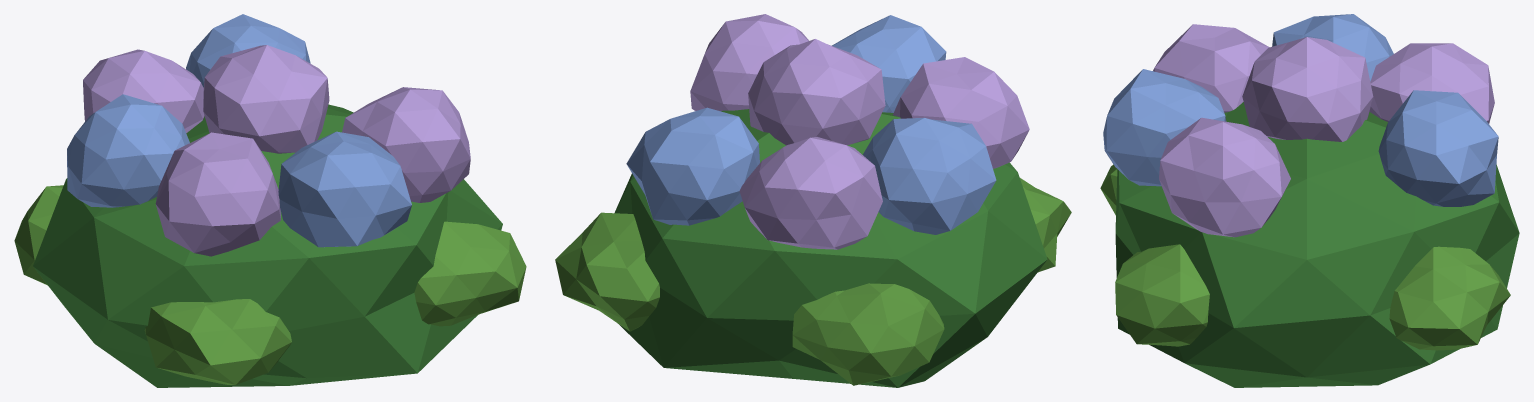
The model's file is hortensia.glb.
3 views of the same model, side by side, from view 1: azimuth 30°, elevation 25°; view 2: azimuth 150°, elevation 25°; view 3: azimuth 270°, elevation 25° (orthographic). The views are drawn at different scales.
Visible parts, largest first — view 1: hortensia; view 2: hortensia; view 3: hortensia.
Part boxes in pixels (x1,y1,x2,y2): hortensia: [14, 14, 526, 387]; hortensia: [555, 14, 1071, 387]; hortensia: [1100, 14, 1519, 387].
Bounding box in the file's own units: 0.9512 × 0.7286 × 0.8904.
